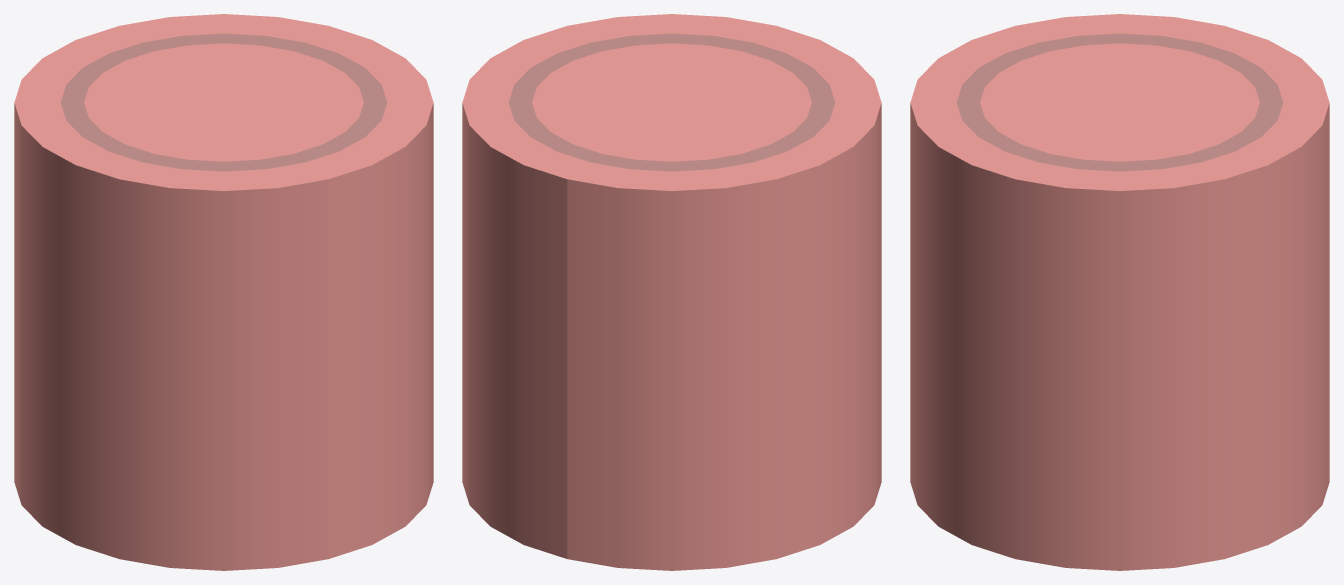
The model's file is kn-rug-round.glb.
3 views of the same model, side by side, from view 1: azimuth 30°, elevation 25°; view 2: azimuth 150°, elevation 25°; view 3: azimuth 270°, elevation 25° (orthographic).
Parts seen in each view (by area): view 1: rugRound(Clone); view 2: rugRound(Clone); view 3: rugRound(Clone).
Boxes of the visible parts, left/top/right/bottom form: rugRound(Clone): left=14, top=14, right=433, bottom=570; rugRound(Clone): left=462, top=14, right=881, bottom=570; rugRound(Clone): left=910, top=14, right=1329, bottom=570.
Bounding box in the file's own units: 1 × 1 × 1.
